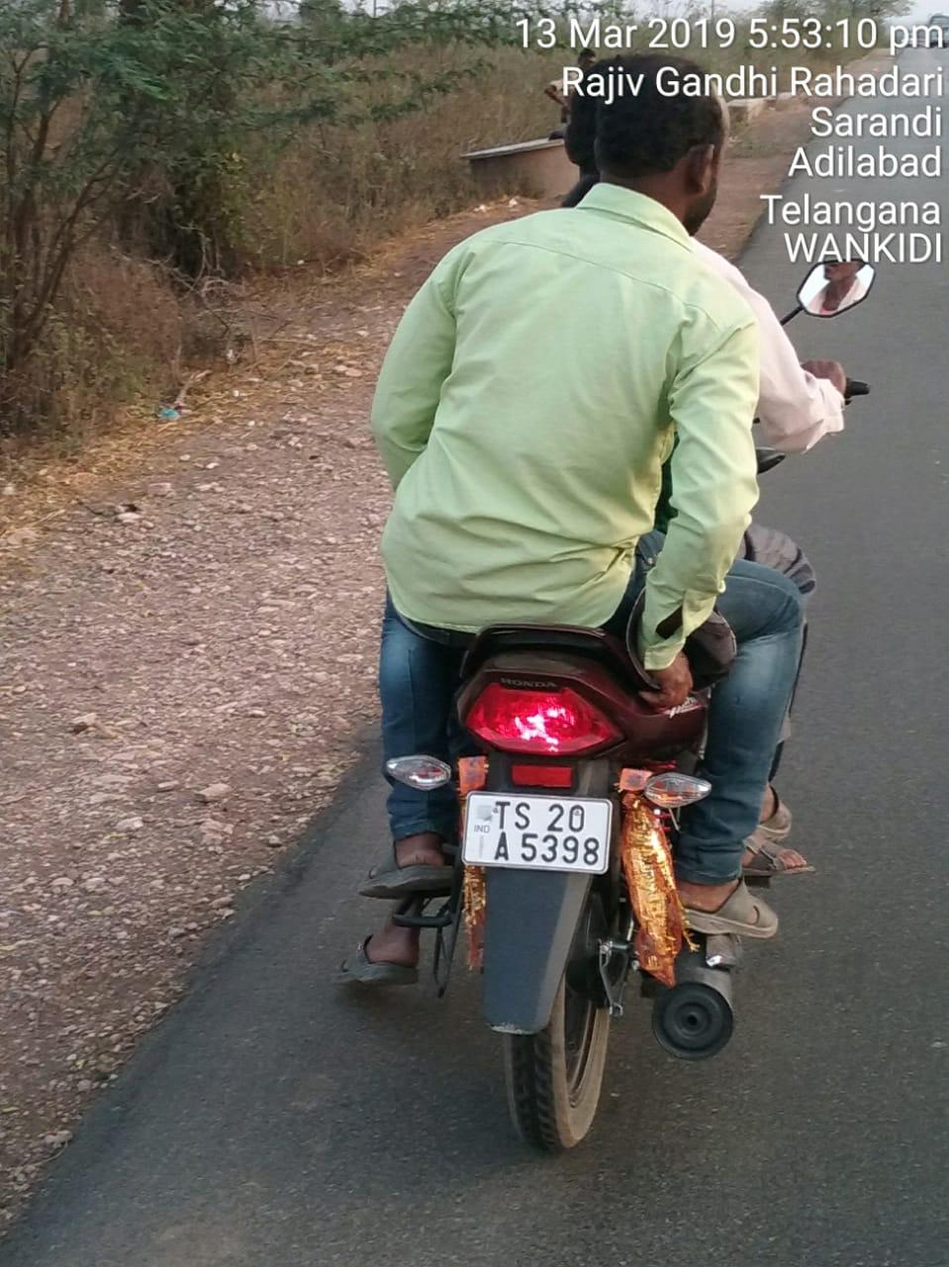plate: (447, 783, 625, 887)
